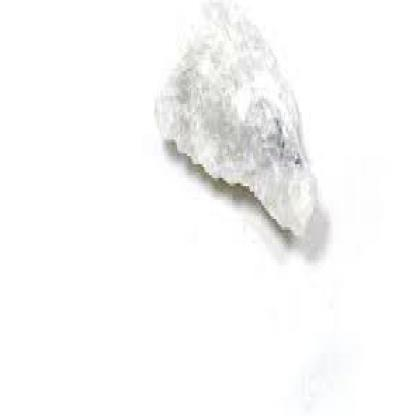Metamorphic_Marble: (143, 0, 336, 244)
